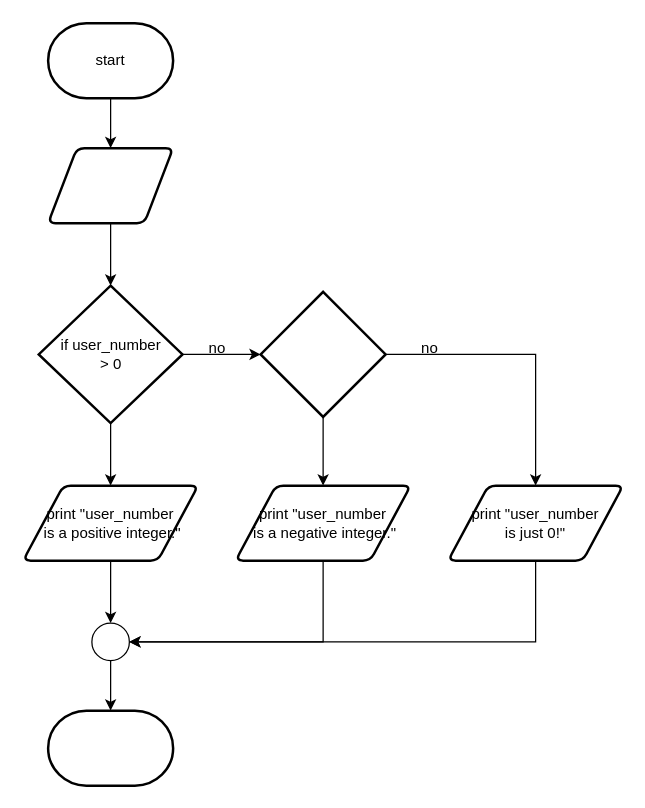
The diagram is 645 pixels wide and 808 high, and some of its shapes have lost their labels. The box of each missing label's shape, as (x1, y1, x2, y2) in pixels:
get user_number: (46, 146, 174, 224)
if user_number < 0: (259, 290, 386, 418)
stop: (46, 709, 174, 786)
